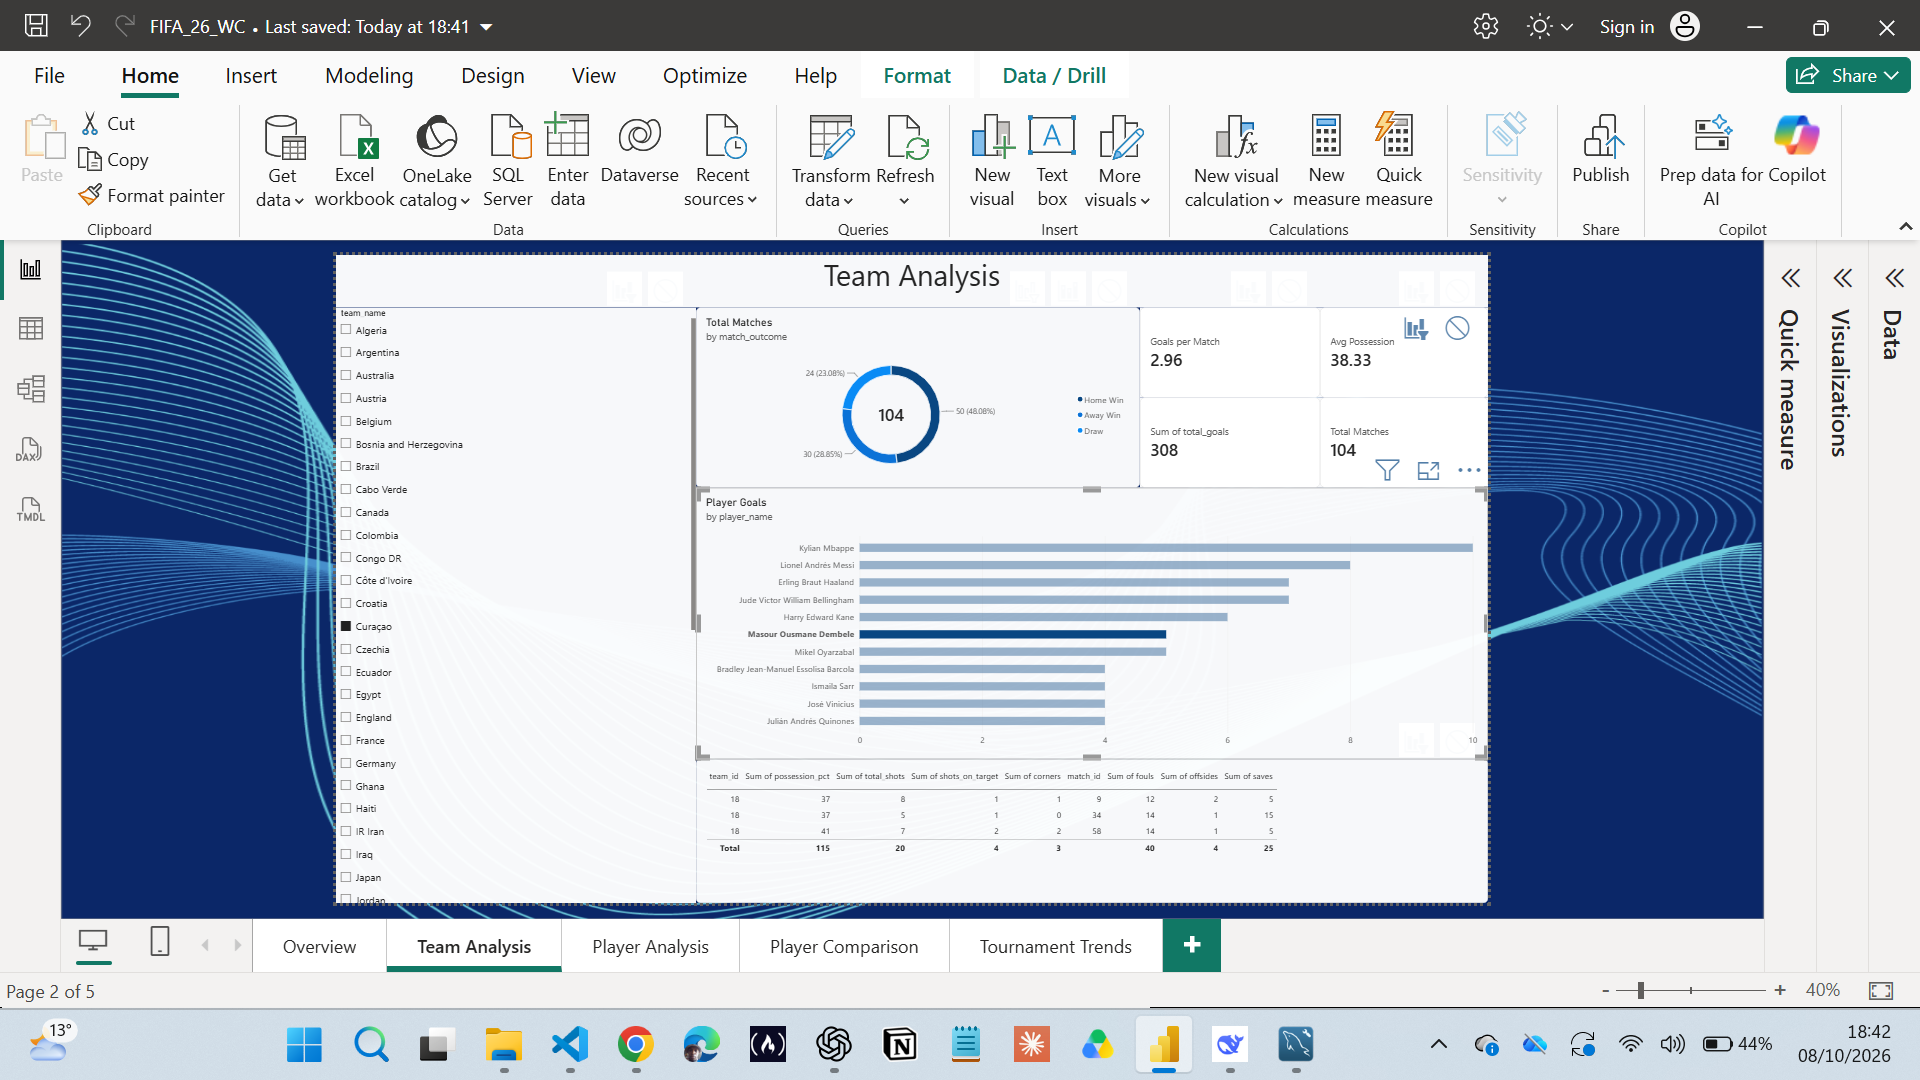

This screenshot's page, from the dashboard's own definition file:
{"tool":"powerbi","page":{"name":"Team Analysis","canvas":[1920,1080],"ordinal":1},"visuals":[{"type":"slicer","fields":{"Values":["teams.team_name"]},"box":[0,87.5,600,992.5],"z":0},{"type":"cardVisual","fields":{"Data":["Sum(matches.total_goals)"]},"box":[1340,237.5,300,150],"z":1000},{"type":"cardVisual","fields":{"Data":["matches.Goals per Match"]},"box":[1340,87.5,300,150],"z":2000},{"type":"cardVisual","fields":{"Data":["matches.Total Matches"]},"box":[1640,237.5,280,150],"z":3000},{"type":"cardVisual","fields":{"Data":["match_team_stats.Avg Possession"]},"box":[1640,87.5,280,150],"z":4000},{"type":"donutChart","title":"Match Outcomes","fields":{"Category":["matches.match_outcome"],"Y":["matches.Total Matches"]},"box":[600,87.5,740,300],"z":5000},{"type":"clusteredBarChart","title":"Top Scorers for Selected Team","fields":{"Category":["players.player_name"],"Y":["matches.Player Goals"]},"box":[600,387.5,1320,452.5],"z":6000},{"type":"tableEx","title":"Selected Team Match Statistics","fields":{"Values":["match_team_stats.team_id","Sum(match_team_stats.possession_pct)","Sum(match_team_stats.total_shots)","Sum(match_team_stats.shots_on_target)","Sum(match_team_stats.corners)","match_team_stats.match_id","Sum(match_team_stats.fouls)","Sum(match_team_stats.offsides)","Sum(match_team_stats.saves)"]},"box":[600,840,1320,240],"z":7000},{"type":"textbox","box":[0,0,1920,87.5],"z":8000}]}

Visuals, with their boxes on the page's 1920x1080 design canvas (x1, y1, x2, y2). These are canvas units, not pixel positions in the 1920x1080 screenshot, which may show the page scaled, cropped or inside an application window:
slicer - teams.team_name: box=[0, 88, 600, 1080]
cardVisual - Sum(matches.total_goals): box=[1340, 238, 1640, 388]
cardVisual - matches.Goals per Match: box=[1340, 88, 1640, 238]
cardVisual - matches.Total Matches: box=[1640, 238, 1920, 388]
cardVisual - match_team_stats.Avg Possession: box=[1640, 88, 1920, 238]
"Match Outcomes" donutChart: box=[600, 88, 1340, 388]
"Top Scorers for Selected Team" clusteredBarChart: box=[600, 388, 1920, 840]
"Selected Team Match Statistics" tableEx: box=[600, 840, 1920, 1080]
textbox: box=[0, 0, 1920, 88]
